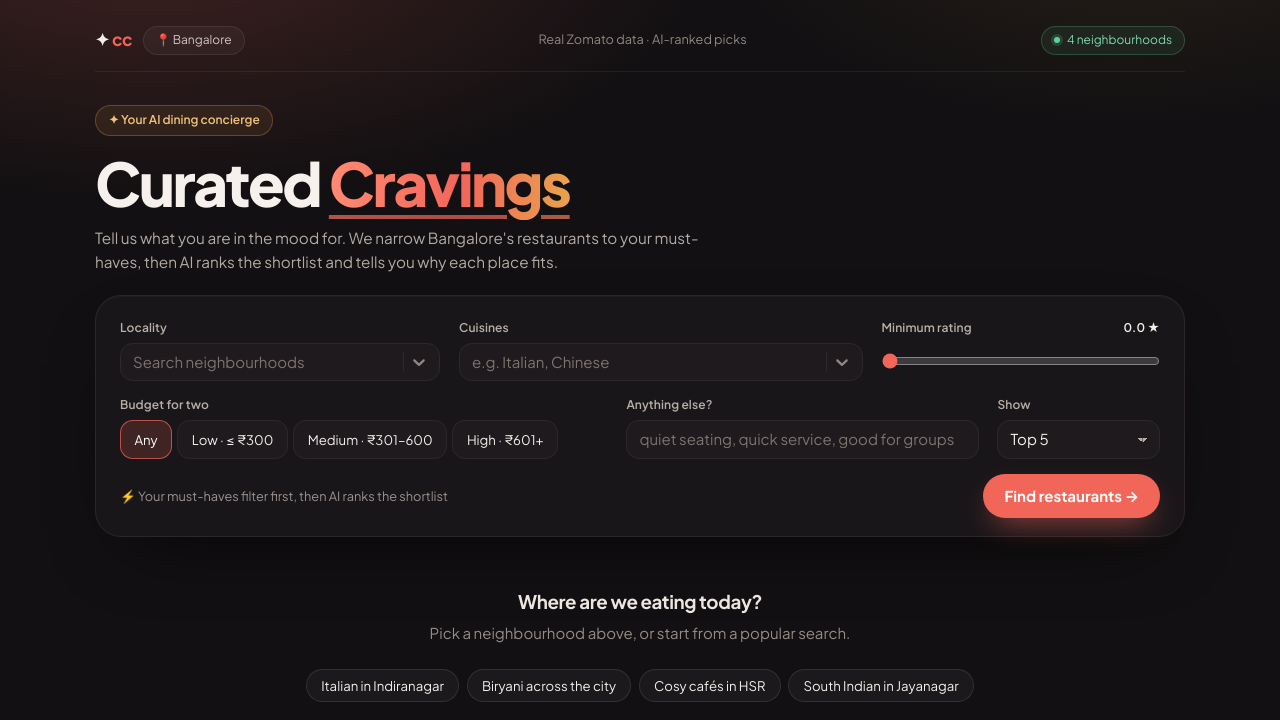
Test: searching › says when fewer restaurants matched than were asked for (EC-UI-08)
Expected: the button "Find restaurants →" is shown, [983,474,1160,518]
What coordinates should you click on to do the following:
click the button "Biryani across the city"
I would click on:
 (549, 686)
Its box is [467,669,631,702].
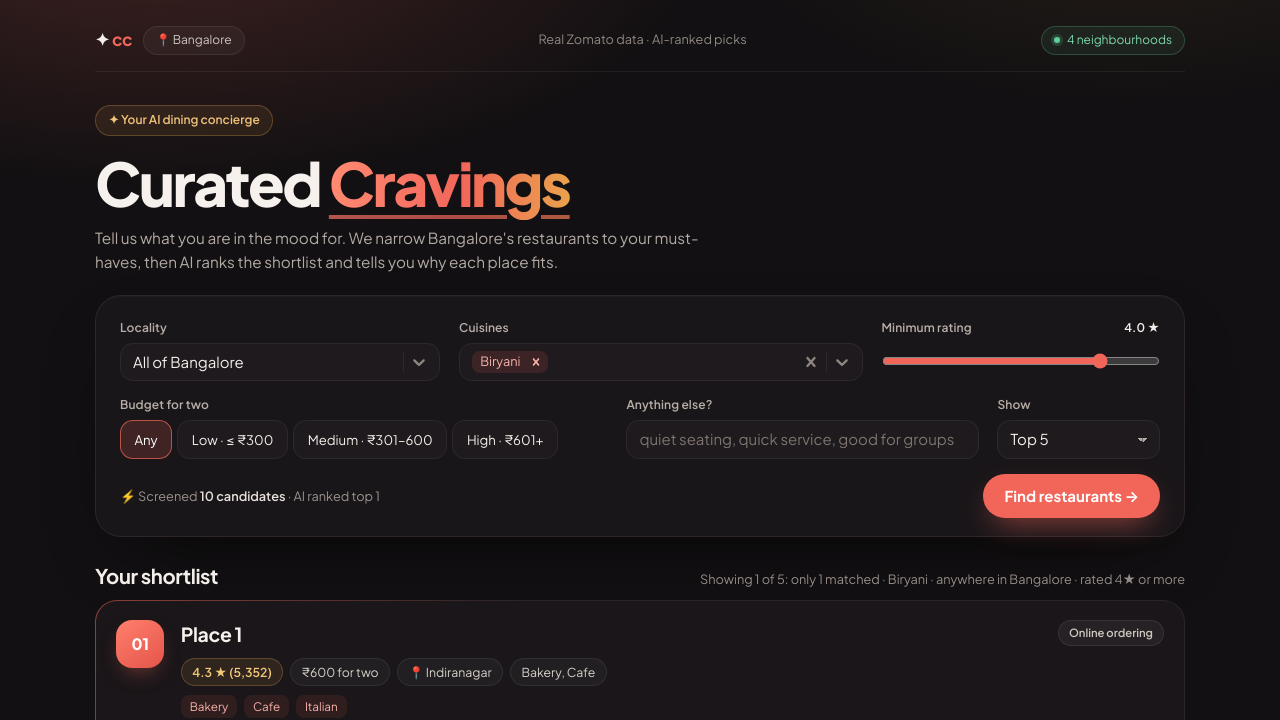
Expected: the text "Showing 1 of 5: only 1 matched · Biryani · anywhere in Bangalore" is shown, [700,571,1185,587]
